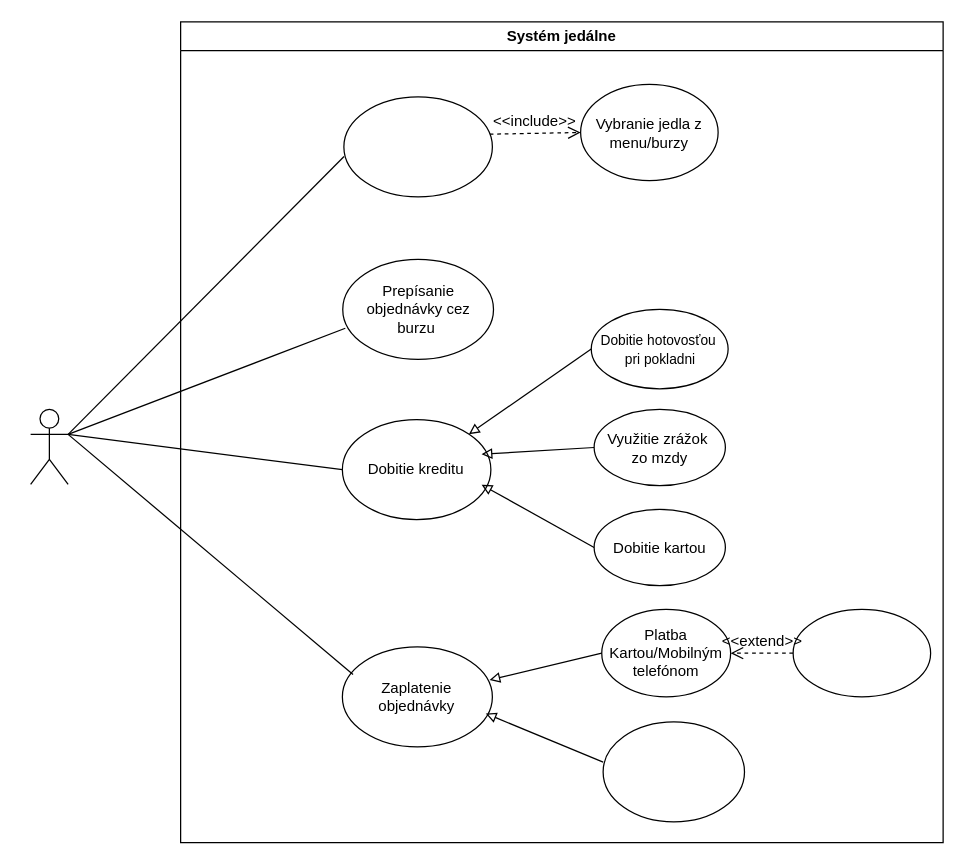
Some shapes in this 965 by 865 pixel diagram are drawn without their labels. Here are the shapes that lost their labels. From the top down, the centre of each, then its label:
the point at 417,146: Objednanie jedla
the point at 48,446: Stravník
the point at 861,652: Vypočítanie príspevku od zamestnávateľa
the point at 673,771: Platba hotovosťou/stravnými lístkami
